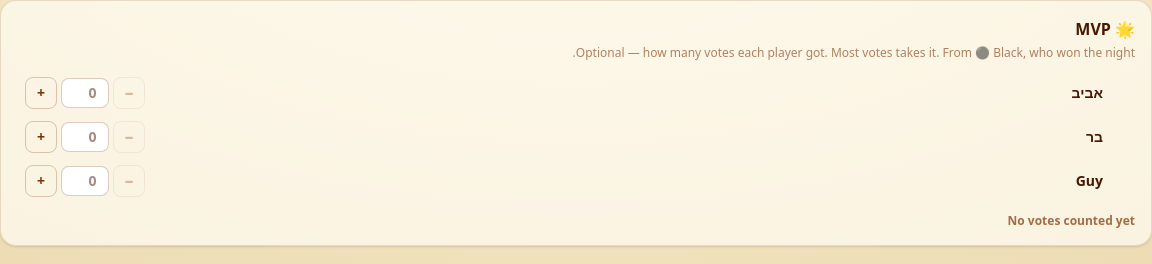
Test: MvpPicker › hands the night to whoever the room named most
Click the button "+" in the row of "אביב": (41, 93) [25,77,57,109]
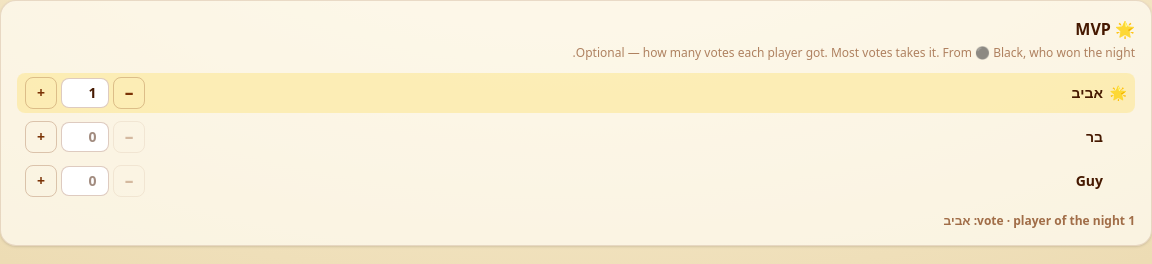
Click the 1st button "+": (41, 93) [25,77,57,109]
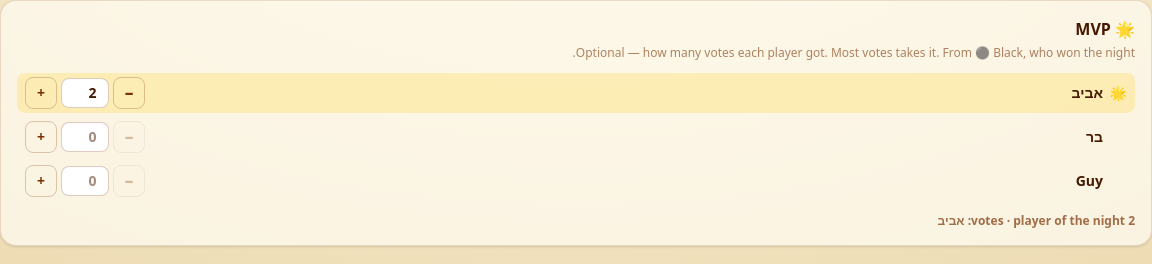
Click the button "+" in the row of "בר": (41, 137) [25,121,57,153]
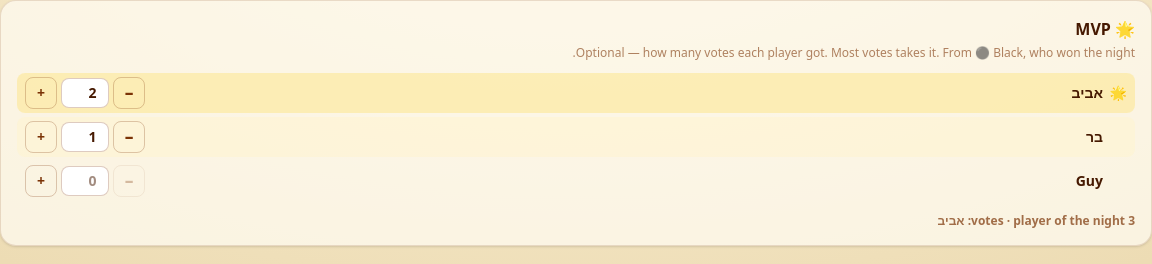
Check: the text "3 votes · player of the night: אביב" is shown, box [938,212,1135,229]
